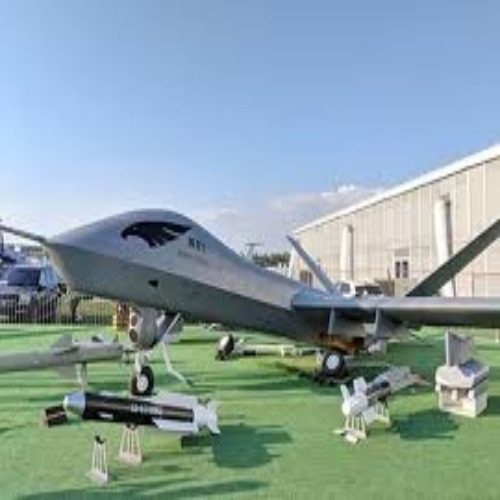uav620: (2, 197, 500, 391)
